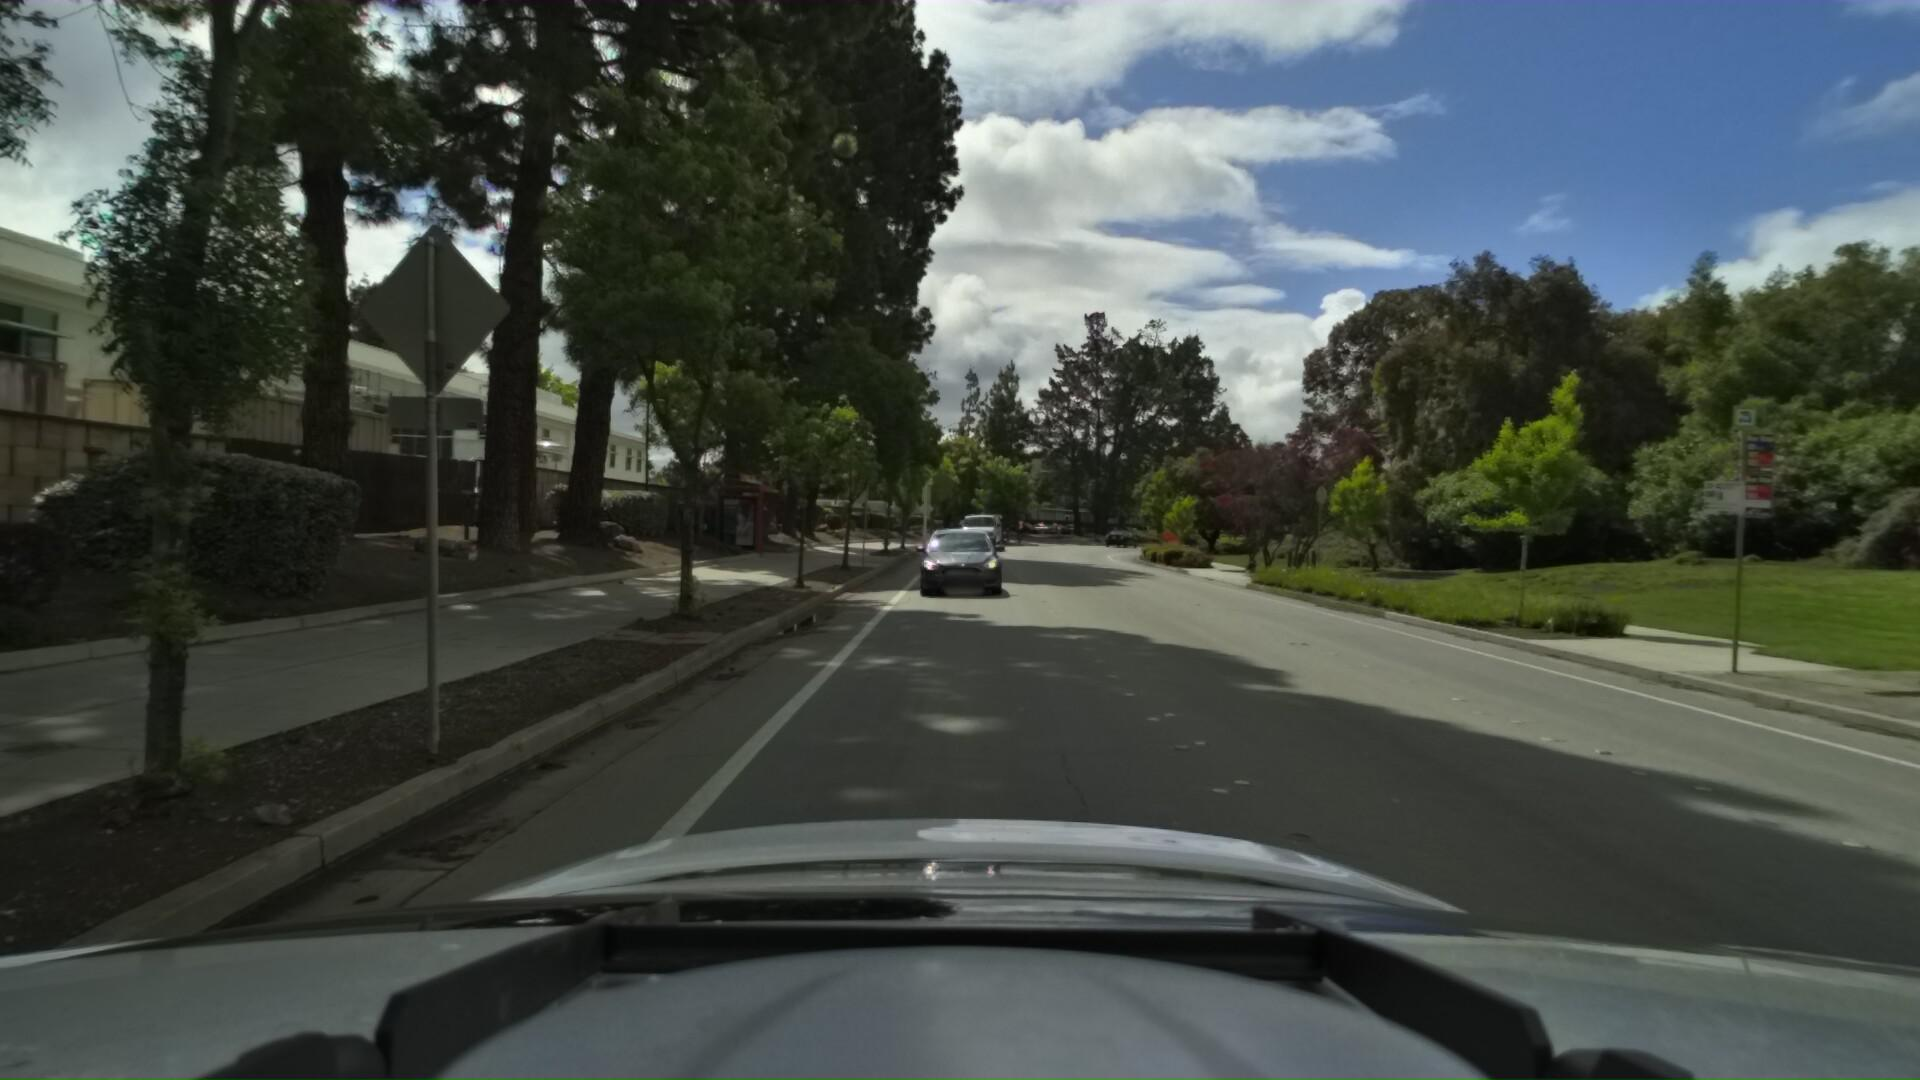car: (913, 520, 1005, 601), (957, 504, 1007, 550), (1098, 524, 1138, 546)
